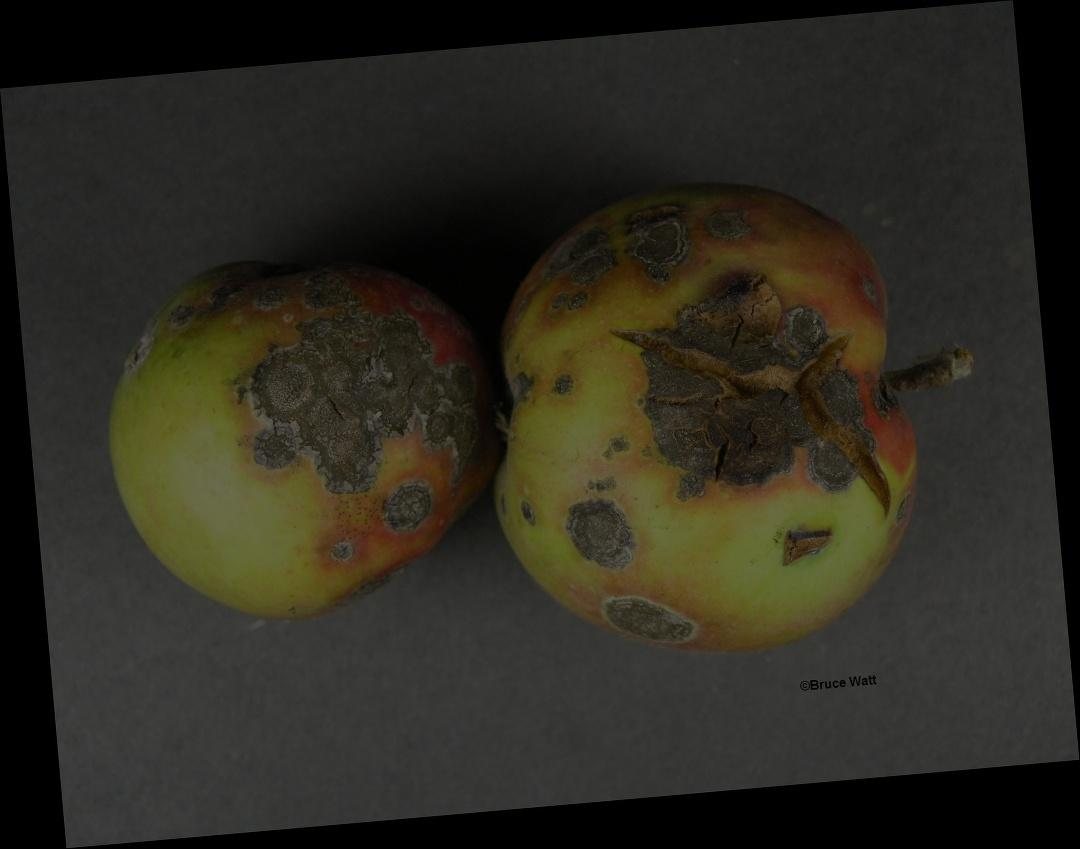rotten apple: (500, 171, 943, 651), (83, 248, 494, 648)
